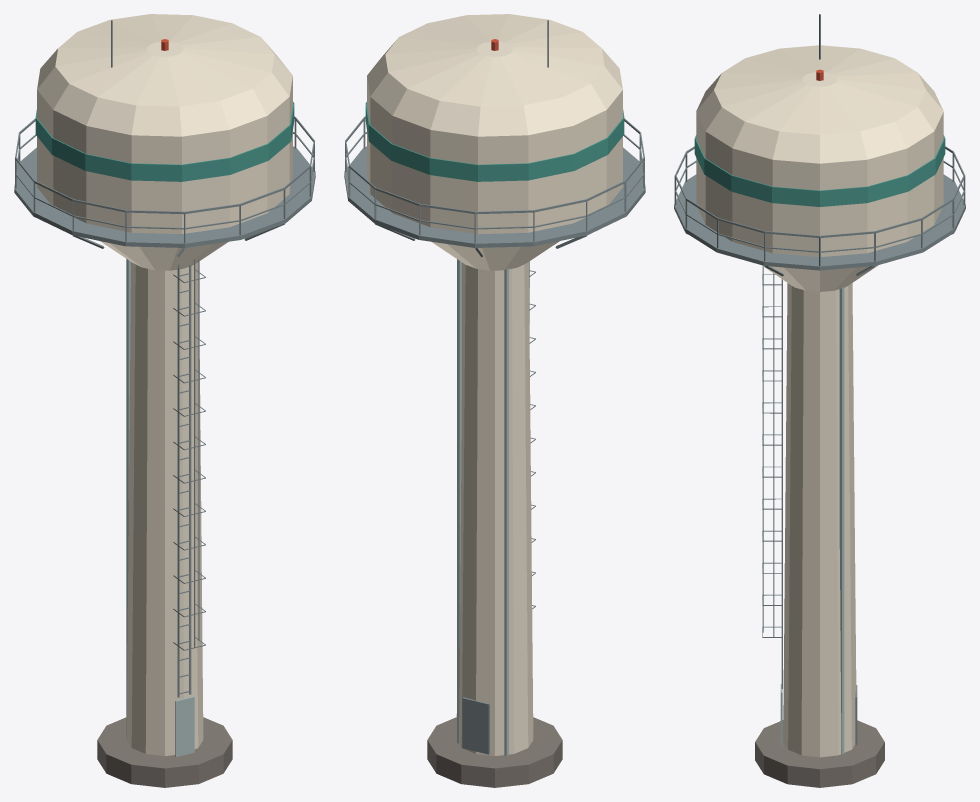
File: tb_danchi_water_tower_01.fbx
3 views of the same model, side by side, from view 1: azimuth 30°, elevation 25°; view 2: azimuth 150°, elevation 25°; view 3: azimuth 270°, elevation 25° (orthographic). The views are drawn at different scales.
Visible parts, largest first — view 1: tb_danchi_water_tower_01; view 2: tb_danchi_water_tower_01; view 3: tb_danchi_water_tower_01.
Part boxes in pixels (left/top/right/bottom): tb_danchi_water_tower_01: left=14, top=14, right=315, bottom=787; tb_danchi_water_tower_01: left=344, top=14, right=645, bottom=787; tb_danchi_water_tower_01: left=674, top=14, right=965, bottom=787.
Size of what is drawn, in the model's own units: 9.9 by 27 by 9.9.
Materials: 3 (2 with a texture image).
